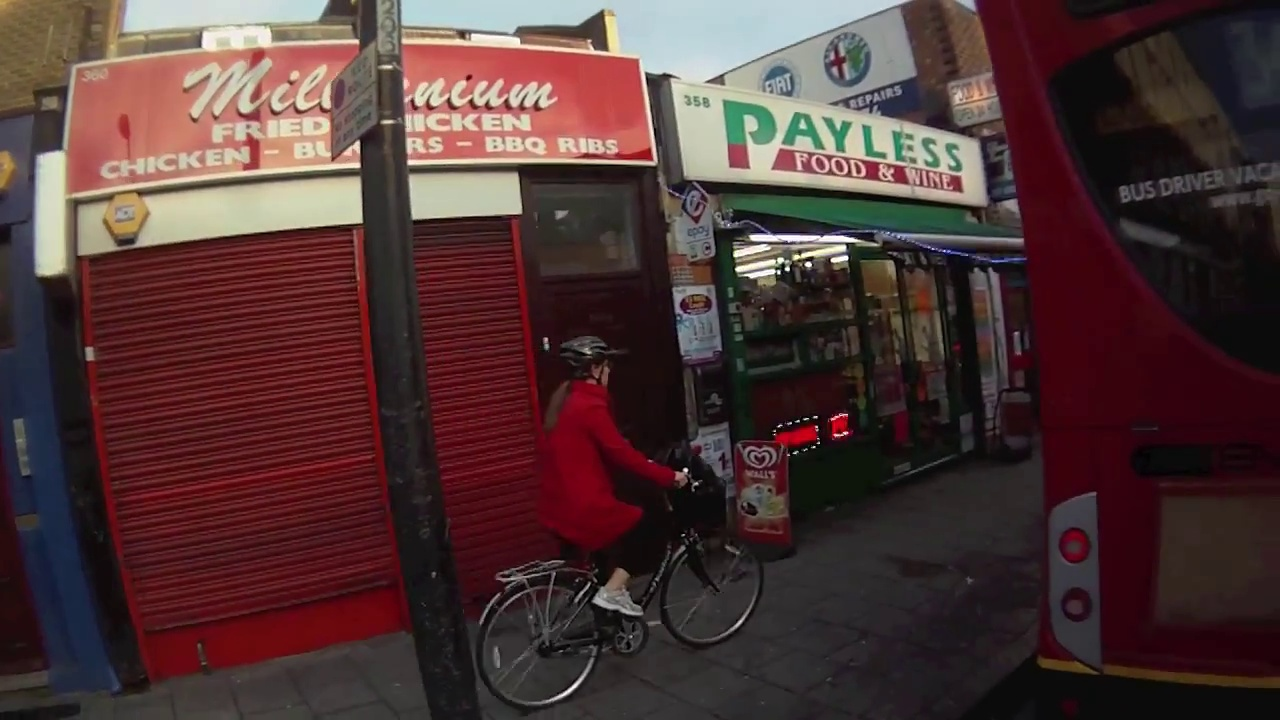cyclist_side: (458, 324, 772, 712)
